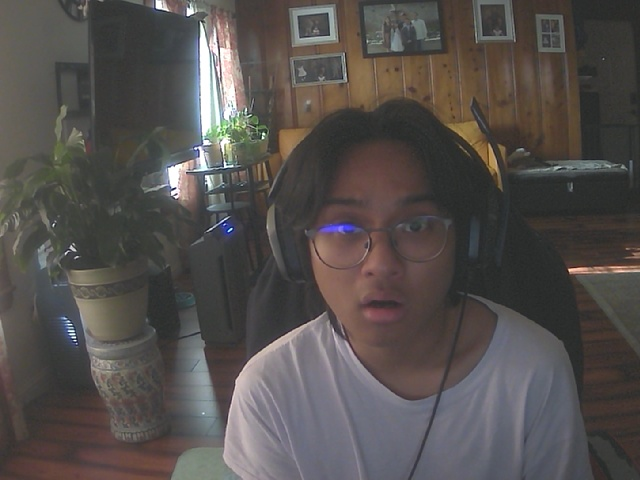sad: (294, 135, 464, 345)
